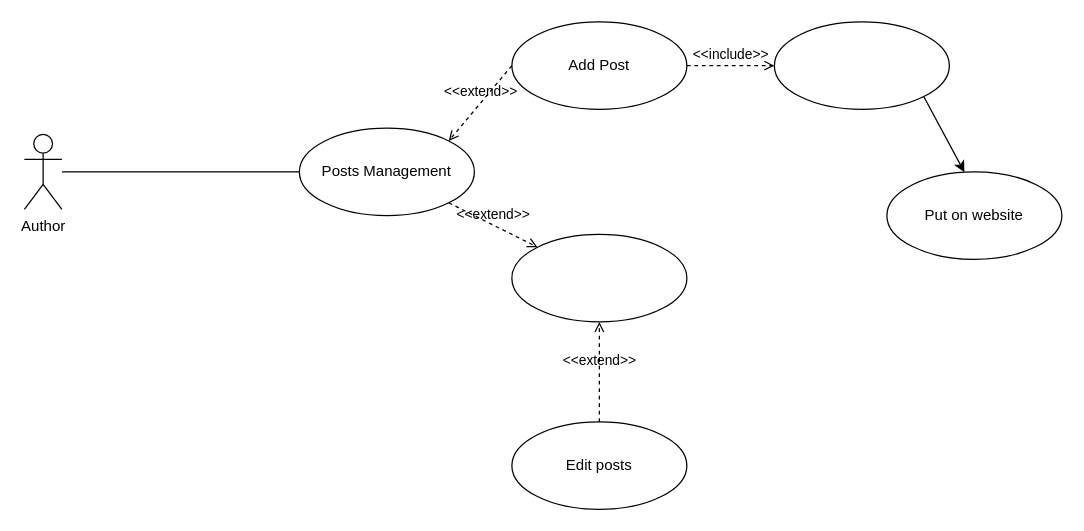
This 1084x531 diagram has some shape labels left out. The shapes that lost their labels are listed below. From the top down, each one's centre as x and y in pixels, then its label:
pixel 861 65: Admin approved
pixel 599 277: Author Posts
